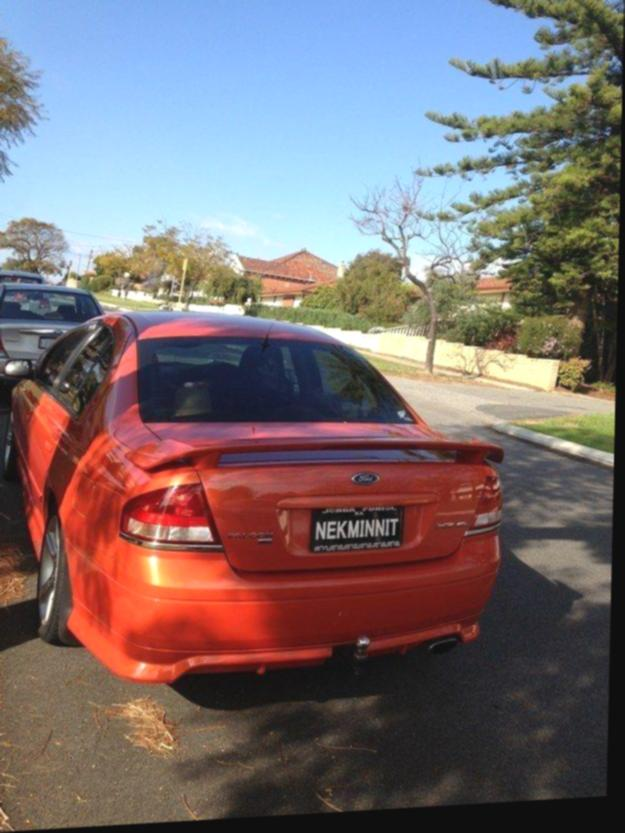License_Plate: (301, 495, 415, 561)
